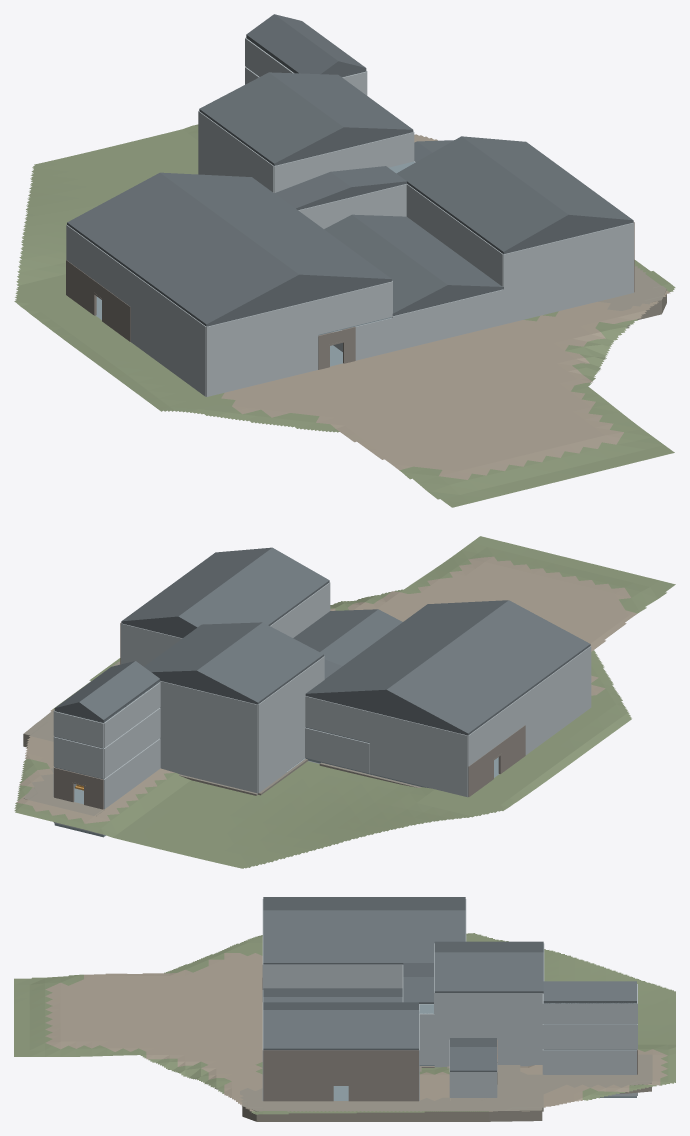
Rendered from interior-stair-landings.glb.
The picture shows the model from 3 angles, top to bottom: view 1: azimuth 30°, elevation 25°; view 2: azimuth 150°, elevation 25°; view 3: azimuth 270°, elevation 25°; orthographic projection. The views are drawn at different scales.
Visible parts, largest first — view 1: MANSION saved ground, main roof west, ballroom roof west, Wall ballroom S, main roof east, attic roof west, ballroom roof east, Wall morning S, Wall drawing S, east-reception roof west, east-reception roof east, attic roof east (+28 smaller); view 2: MANSION saved ground, main roof west, main roof east, ballroom roof west, attic roof west, ballroom roof east, Wall library N, attic roof east, Wall archive N, stair-tower roof west, Wall guest-a N, Wall drawing W (+35 smaller); view 3: MANSION saved ground, main roof east, ballroom roof east, attic roof east, Blackthorn Manor ballroom E facade ballroom e exterior doorw (×2), Blackthorn Manor ballroom E facade end pier region0, Flat route shell Wall gallery E.001, Blackthorn Manor East garden and ballroom retaining terrace , Wall upper-service E, main roof west, MANSION bay wall ('x', 46, 2, 14, 3.6, 7.2) end region0, Wall attic-passage E (+14 smaller).
Boxes of the visible parts, x1,y1,x2,y2 form: MANSION saved ground: [14, 124, 675, 507]; main roof west: [67, 173, 299, 325]; ballroom roof west: [396, 136, 568, 253]; Wall ballroom S: [503, 222, 633, 324]; main roof east: [160, 172, 391, 281]; attic roof west: [199, 72, 343, 165]; ballroom roof east: [462, 136, 633, 222]; Wall morning S: [392, 289, 503, 351]; Wall drawing S: [206, 335, 318, 396]; east-reception roof west: [324, 215, 447, 315]; east-reception roof east: [352, 214, 503, 288]; attic roof east: [269, 72, 413, 131]; MANSION saved ground: [14, 536, 675, 868]; main roof west: [386, 600, 590, 734]; main roof east: [305, 600, 508, 695]; ballroom roof west: [178, 547, 329, 628]; attic roof west: [196, 622, 323, 703]; ballroom roof east: [121, 547, 271, 622]; Wall library N: [370, 743, 468, 797]; attic roof east: [144, 622, 262, 673]; Wall archive N: [159, 681, 257, 730]; stair-tower roof west: [79, 661, 159, 721]; Wall guest-a N: [402, 720, 468, 766]; Wall drawing W: [525, 677, 591, 754]; MANSION saved ground: [14, 933, 675, 1114]; main roof east: [263, 910, 465, 964]; ballroom roof east: [263, 1010, 418, 1049]; attic roof east: [434, 952, 543, 992]; Blackthorn Manor ballroom E facade ballroom e exterior doorw (×2): [331, 1050, 418, 1101]; Blackthorn Manor ballroom E facade end pier region0: [263, 1050, 331, 1101]; Flat route shell Wall gallery E.001: [263, 964, 402, 988]; Blackthorn Manor East garden and ballroom retaining terrace : [242, 1098, 542, 1121]; Wall upper-service E: [419, 1013, 542, 1039]; main roof west: [263, 897, 465, 910]; MANSION bay wall ('x', 46, 2, 14, 3.6, 7.2) end region0: [543, 1024, 636, 1049]; Wall attic-passage E: [434, 993, 543, 1014].
Bounding box in the file's own units: 55 × 15.86 × 85.
40 materials, 24 textured.
